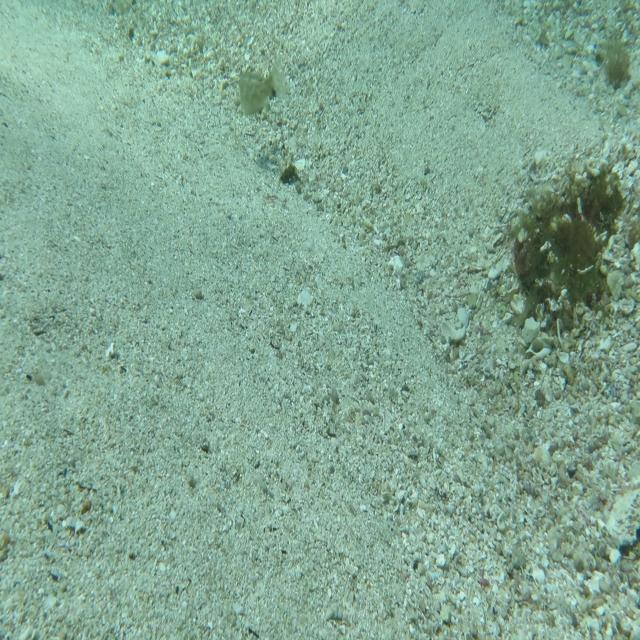AM: (237, 64, 287, 118)
core_nest: (580, 170, 616, 206)
nest: (512, 151, 626, 341)
vegetation: (598, 31, 635, 96), (278, 161, 295, 187)
